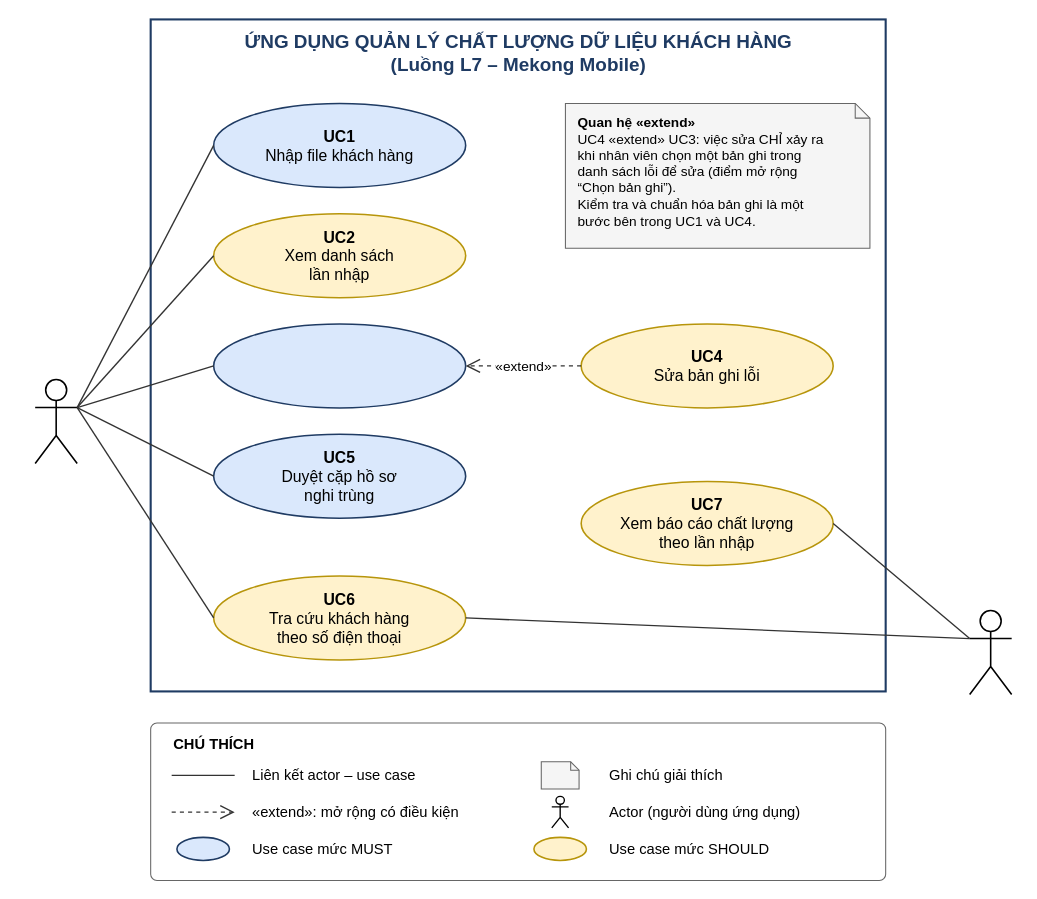
Image size: 1037x899. Some labels were removed from this diagram. Here are the shapes that lost their labels. From the top down, the centre of each, then its label:
At (339,365): "UC3 Xem danh sách bản ghi lỗi".
At (55,421): "Nhân viên dữ liệu".
At (990,652): "Quản lý dữ liệu".
